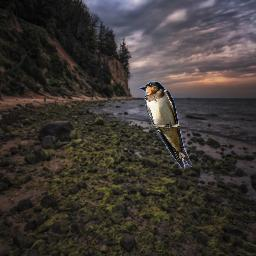Swallow: (139, 81, 192, 169)
